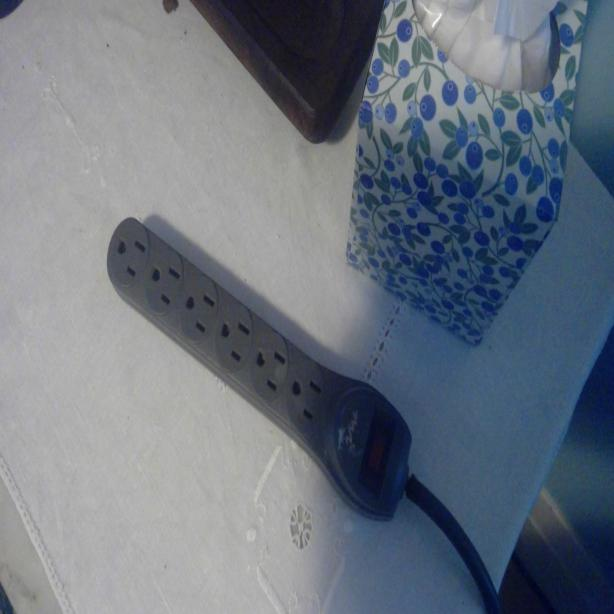typeb: (288, 356, 324, 427), (217, 300, 250, 366), (254, 330, 286, 398), (112, 227, 146, 287), (186, 272, 216, 338), (152, 250, 180, 308)
